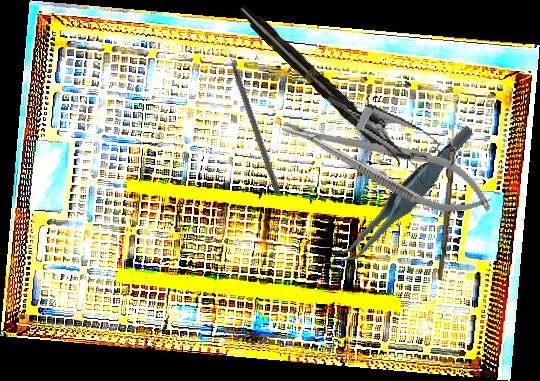Handpiece: (234, 1, 409, 170)
Hook Surgical: (220, 36, 283, 196)
Needle Holder: (273, 99, 502, 230)
Speculum: (311, 91, 466, 197)
Surgical Spoon: (437, 100, 460, 281)
Tissue Forceps: (314, 124, 497, 268)
